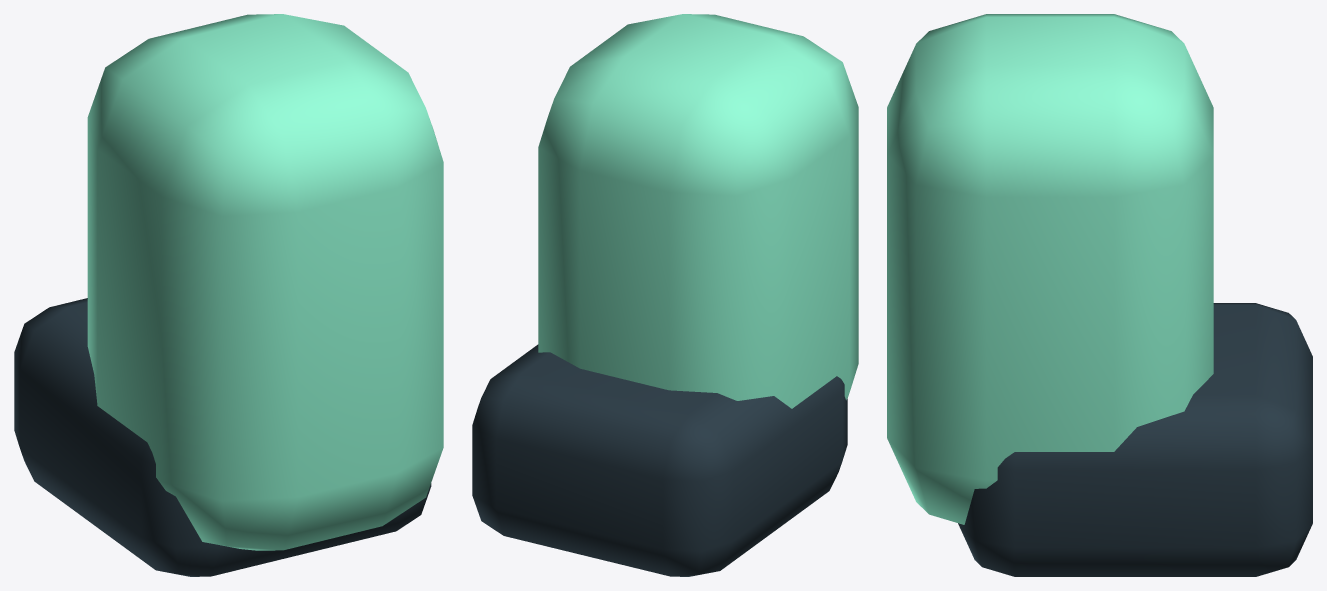
Rendered from rider_upper_arm.glb.
3 views of the same model, side by side, from view 1: azimuth 30°, elevation 25°; view 2: azimuth 150°, elevation 25°; view 3: azimuth 270°, elevation 25° (orthographic). The views are drawn at different scales.
Visible parts, largest first — view 1: Sleeve, Elbow pad; view 2: Sleeve, Elbow pad; view 3: Sleeve, Elbow pad.
Part boxes in pixels (box(x1,y1,x2,y2)): Sleeve: box(87, 14, 443, 550); Elbow pad: box(14, 298, 431, 576); Sleeve: box(538, 14, 858, 408); Elbow pad: box(472, 344, 847, 576); Sleeve: box(887, 14, 1213, 524); Elbow pad: box(958, 303, 1312, 576).
Bounding box in the file's own units: 0.23 × 0.38 × 0.3.
